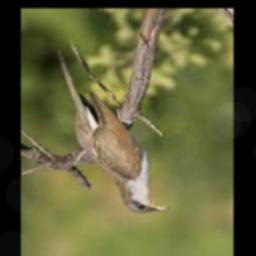Cuckoo: (57, 53, 170, 215)
